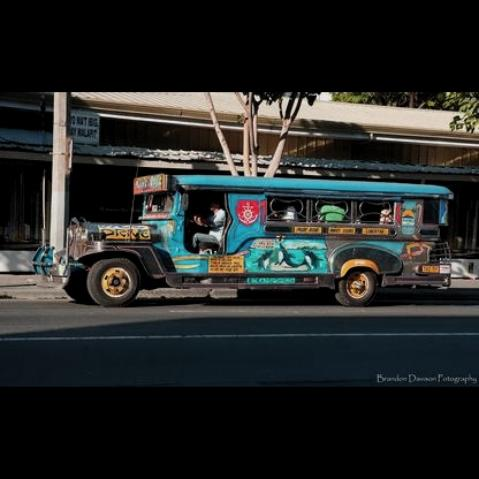jeepney: (30, 137, 446, 323)
